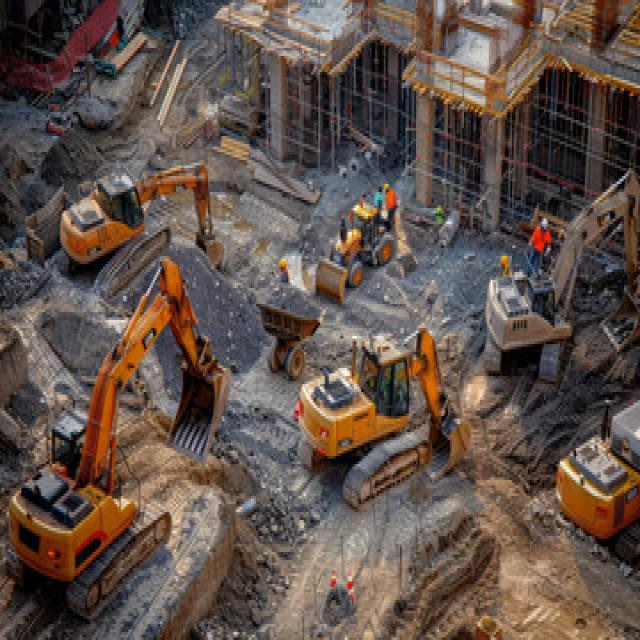Site Excavation: (70, 188, 454, 616)
